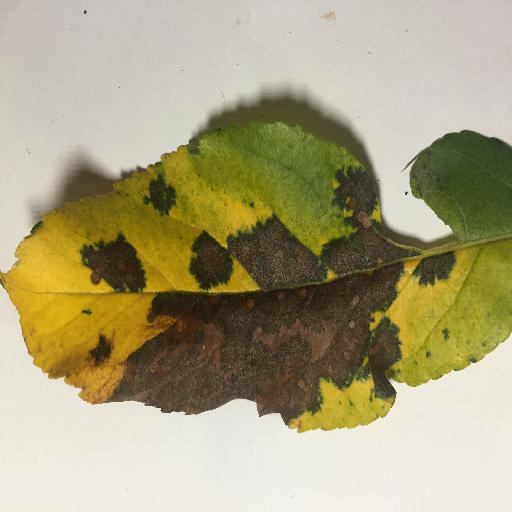Brown_Spot: (123, 286, 398, 416), (227, 228, 327, 284), (77, 237, 157, 288), (315, 163, 381, 217), (324, 224, 405, 261), (186, 228, 230, 292), (416, 251, 468, 287), (146, 178, 184, 208), (88, 344, 120, 369)
